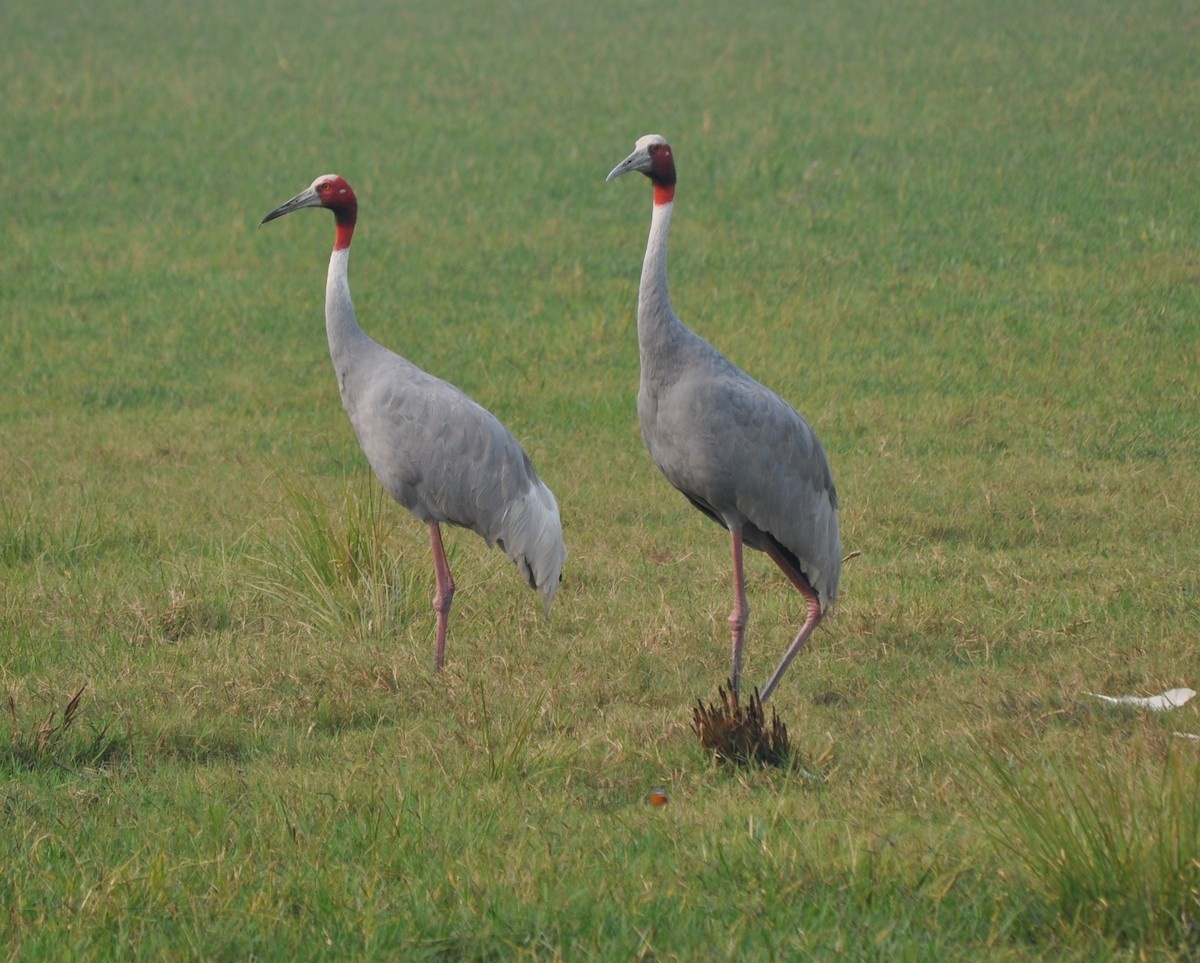crane: (264, 158, 582, 690), (606, 110, 862, 751)
